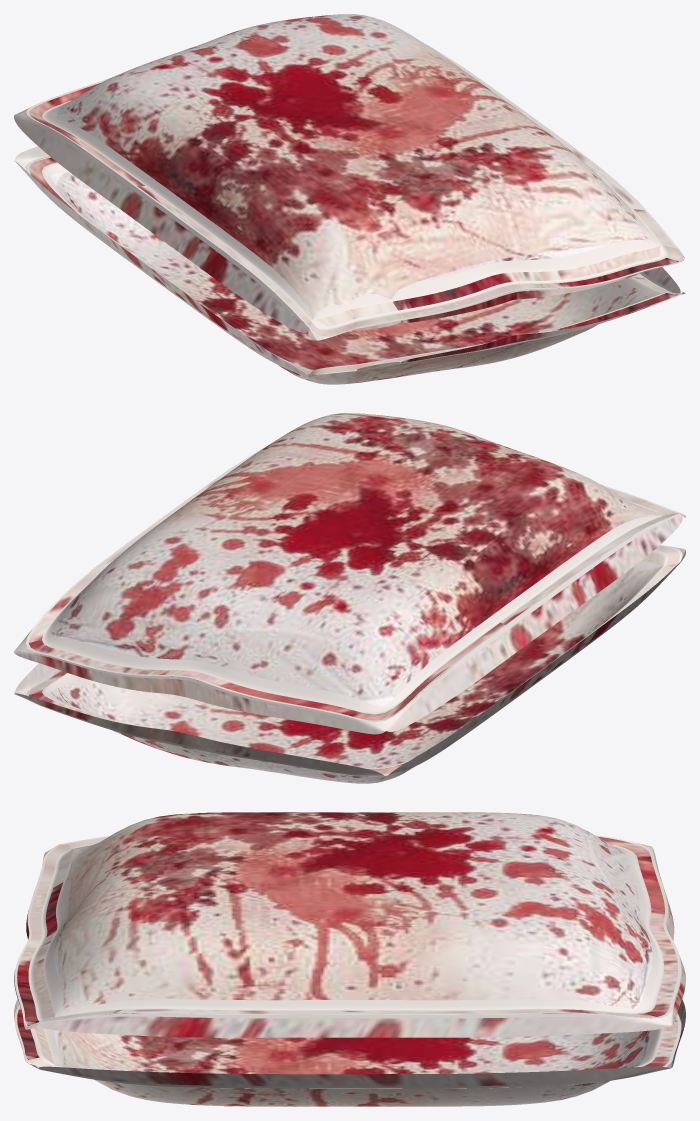
Rendered from Pillow_edit.fbx.
3 views of the same model, one above another, from view 1: azimuth 30°, elevation 25°; view 2: azimuth 150°, elevation 25°; view 3: azimuth 270°, elevation 25° (orthographic).
Parts seen in each view (by area): view 1: Plane; view 2: Plane; view 3: Plane.
Boxes of the visible parts, bbox=[...] form: Plane: bbox=[14, 14, 685, 384]; Plane: bbox=[14, 413, 685, 783]; Plane: bbox=[14, 812, 685, 1106].
Bounding box in the file's own units: 226 × 101 × 333.
